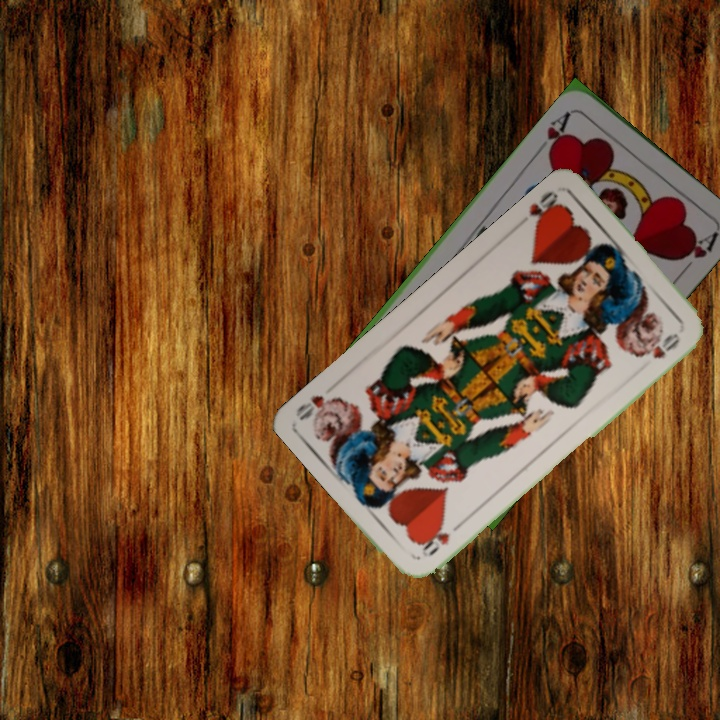HA: (532, 107, 575, 160)
HO: (417, 518, 465, 559), (524, 186, 565, 230)
